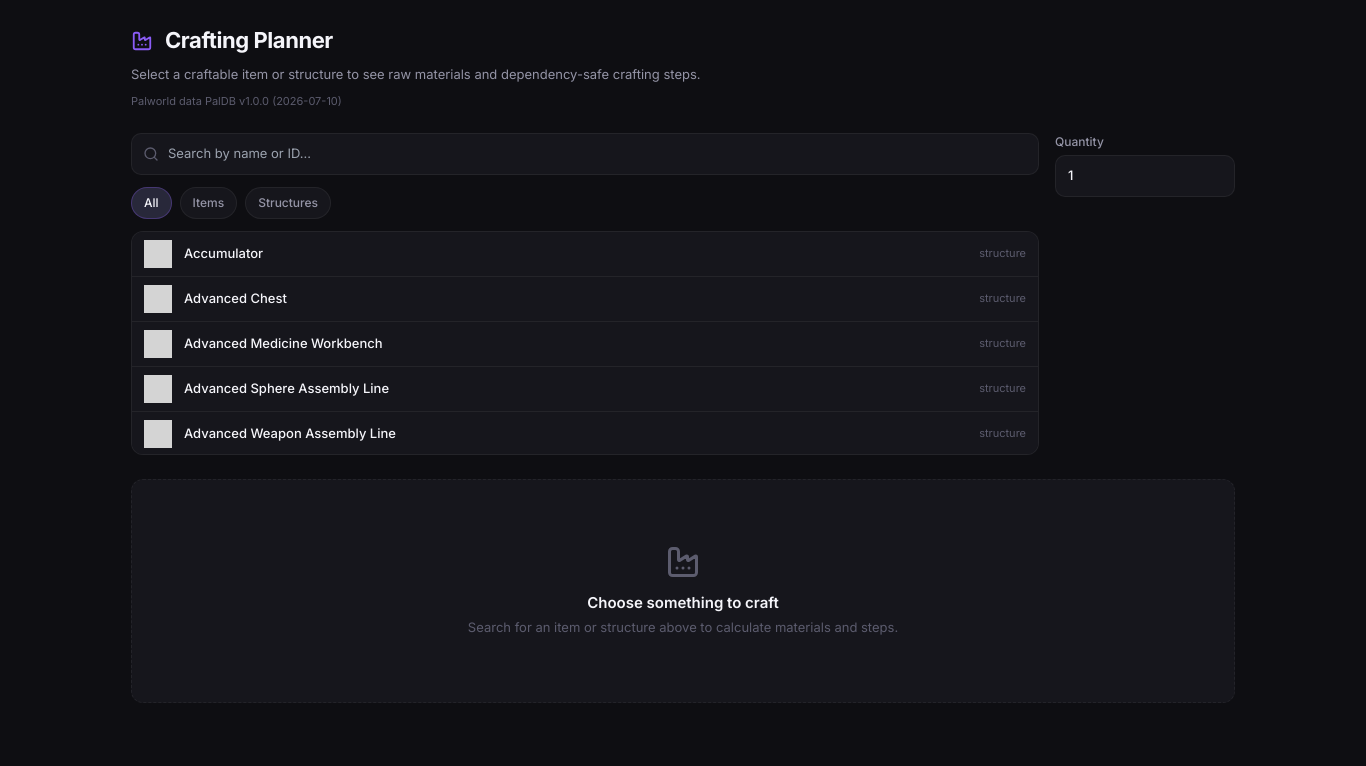
Test: CraftingPlanner page › selects a target and shows raw materials
Type "Gigantic Furnace" into the search field labelled "Search by name or ID...". click: (585, 154)
box: [131,133,1039,174]
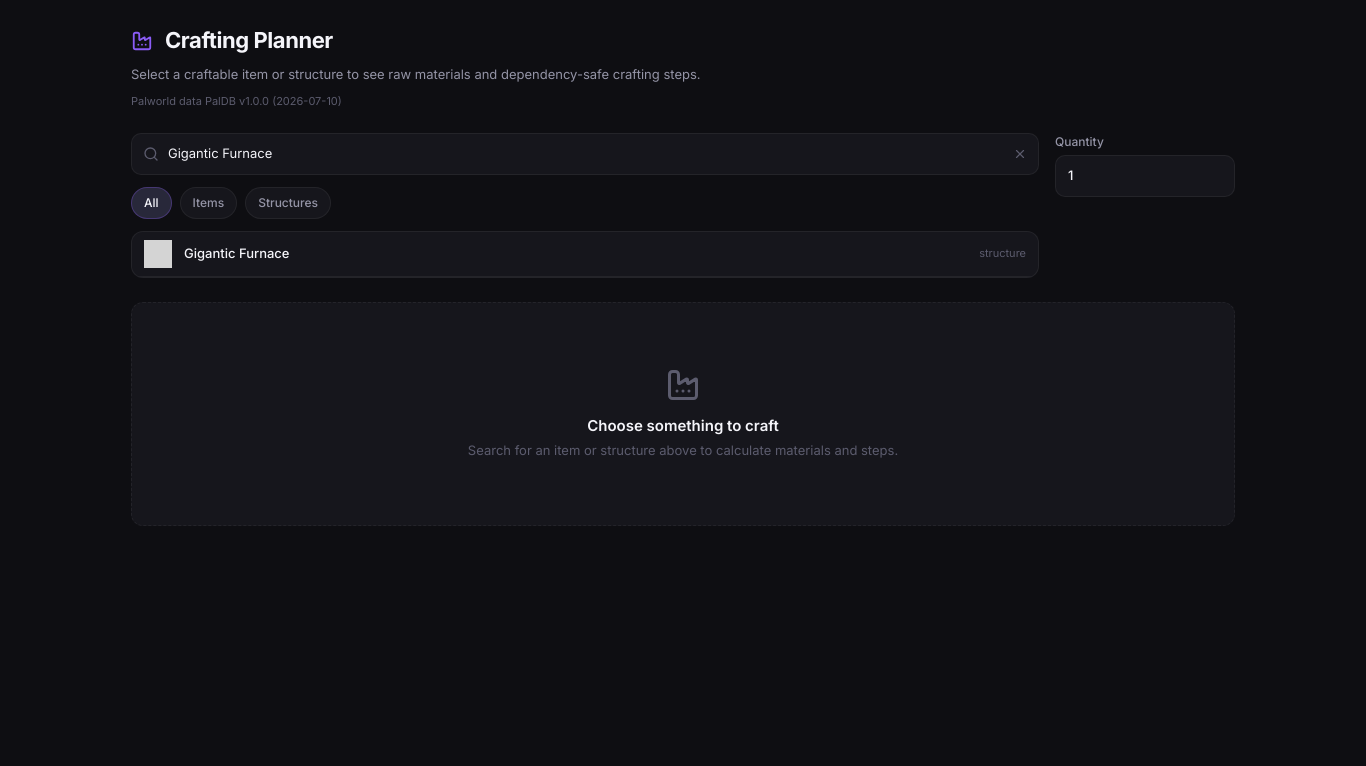
Click the option "Gigantic Furnace structure". click: (237, 253)
box: [132,232,1038,276]
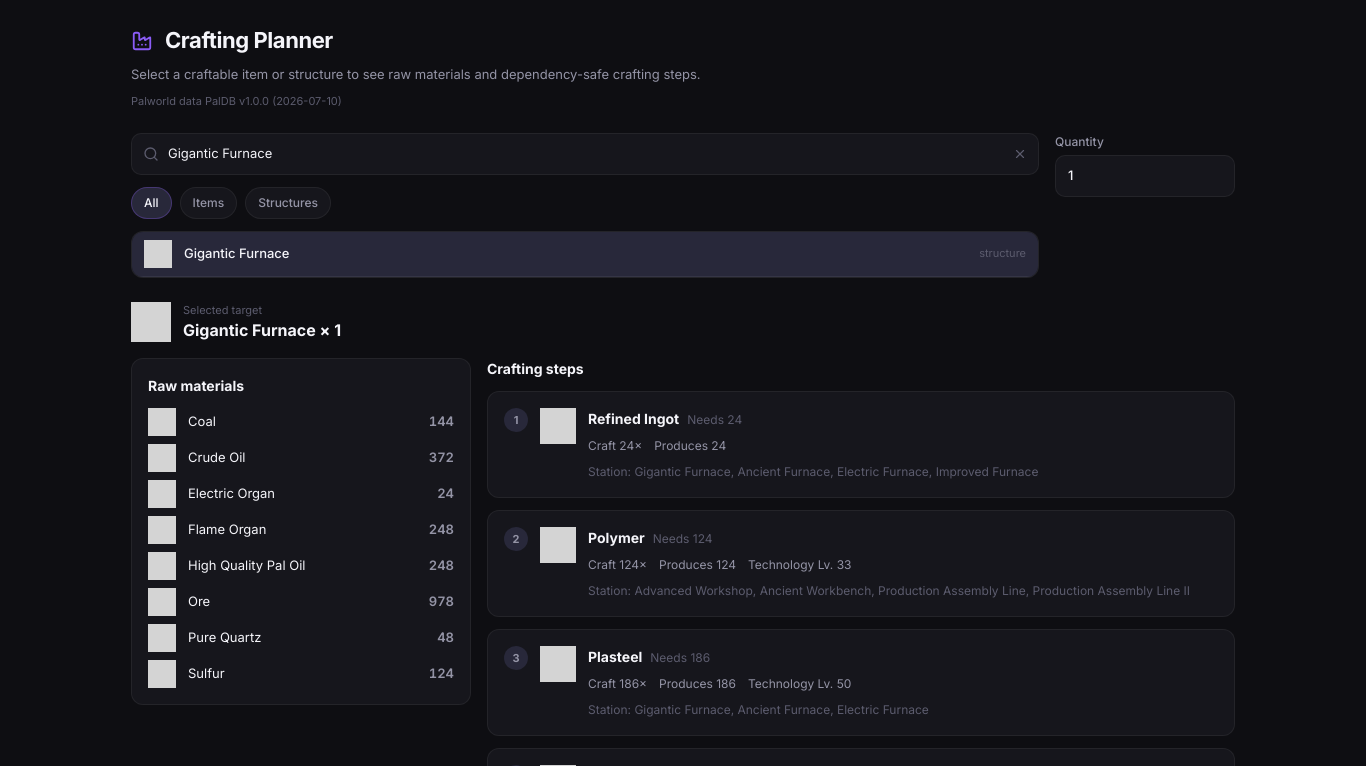
expect the heading "Raw materials" is shown: met, box [148,377,244,394]
expect the heading "Crafting steps" is shown: met, box [487,360,584,377]
